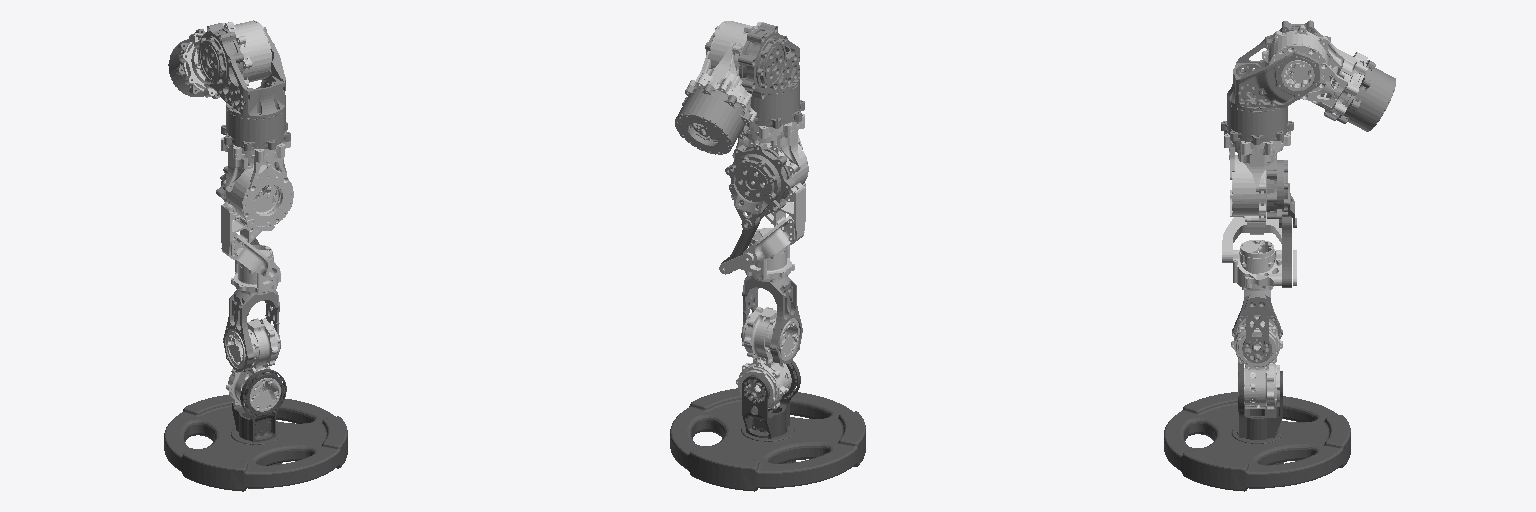
robot.urdf — raipal_stub-5_R:
<?xml version="1.0" encoding="utf-8"?>
<robot name="raipal_stub-5_R">
  <!-- [URDF-WRITER] Created with urdf-writer script (by CHH) on 2026-01-27 21:55:36.760258-->

  <!-- [URDF-WRITER] from module [_fixed-base] -->

  <!-- this link makes the robot fixed-base in RAISIM -->
  <link name="world"></link>

  <link name="base"></link>

  <joint name="base_fix" type="fixed">
    <origin xyz="0 0 0.8" rpy="0 0 0"/>
    <parent link="world" />
    <child link="base" />
    <axis xyz="0 0 0" />
  </joint>


  <!-- [URDF-WRITER] from module [raipal_R] -->

  <link name="R_base">
    <!-- CHH / 2025-09-01-20:14 -->
    <!-- link name: [R_base]-->
    <!-- frame: [R0_base]-->
    <inertial>
      <origin 
        xyz="-0.00013000 -0.06389000 -0.05559000"
        rpy="0 0 0" />
      <mass value="0.79658000" />
      <inertia
          ixx="0.00074742"
          ixy="1.892780e-6"
          ixz="-1.179560e-6"
          iyy="0.00098187"
          iyz="-0.00013334"
          izz="0.00082394" />
    </inertial>
    <visual>
      <origin
        xyz="0 0 0"
        rpy="0 0 0" />
      <geometry>
        <mesh filename="../meshes/R_base.STL" />
      </geometry>
      <material name="">
        <color rgba=".6 .6 .6 1" />
      </material>
    </visual>
    <!--<collision>
      <origin
        xyz="0 0 0"
        rpy="0 0 0" />
      <geometry>
        <mesh filename="../meshes/R_base.STL" />
      </geometry>
    </collision>-->
  </link>

  <joint name="R_fix" type="fixed">
    <origin xyz="0 0 0" rpy="0 0 0"/>
    <parent link="base" />
    <child link="R_base" />
    <axis xyz="0 0 0" />
  </joint>

  <link name="R_collar">
    <!-- CHH / 2025-09-01-20:14 -->
    <!-- link name: [R_collar]-->
    <!-- frame: [R1_flexion]-->
    <inertial>
      <origin 
        xyz="0.00471000 -1.000000e-5 0.10057000"
        rpy="0 0 0" />
      <mass value="1.72283000" />
      <inertia
          ixx="0.00466072"
          ixy="5.127800e-7"
          ixz="-0.00028338"
          iyy="0.00434837"
          iyz="8.010400e-7"
          izz="0.00167296" />
    </inertial>
    <visual>
      <origin
        xyz="0 0 0"
        rpy="0 0 0" />
      <geometry>
        <mesh filename="../meshes/R_collar.STL" />
      </geometry>
      <material name="">
        <color rgba="0.8 0.8 0.8 1" />
      </material>
    </visual>
    <!--<collision>
      <origin
        xyz="0 0 0"
        rpy="0 0 0" />
      <geometry>
        <mesh filename="../meshes/R_collar.STL" />
      </geometry>
    </collision>-->
  </link>

  <joint name="R1_flexion" type="revolute"> <!--[0]-->
    <origin
      xyz="0 -0.037198 -0.0709"
      rpy="1.0472 0 0" />
    <parent link="R_base" />
    <child link="R_collar" />
    <axis
      xyz="0 0 1" />
    <limit
      lower="-1.57"
      upper="3.14"
      effort="181"
      velocity="13.9" />
    <dynamics rotor_inertia = "0.0576402034658611" /> <!-- CHH / 2025-09-01-20:30-->
  </joint>

  <link name="R_shoulder">
    <!-- CHH / 2025-09-01-20:14 -->
    <!-- link name: [R_shoulder]-->
    <!-- frame: [R2_adduction]-->
    <inertial>
      <origin 
        xyz="-0.03309000 0.04277000 0.04408000"
        rpy="0 0 0" />
      <mass value="1.92988000" />
      <inertia
          ixx="0.00554587"
          ixy="0.00224326"
          ixz="-0.00046924"
          iyy="0.00422168"
          iyz="0.00058524"
          izz="0.00699049" />
    </inertial>
    <visual>
      <origin
        xyz="0 0 0"
        rpy="0 0 0" />
      <geometry>
        <mesh filename="../meshes/R_shoulder.STL" />
      </geometry>
      <material name="">
        <color rgba="0.6 0.6 0.6 1" />
      </material>
    </visual>
    <!--<collision>
      <origin
        xyz="0 0 0"
        rpy="0 0 0" />
      <geometry>
        <mesh filename="../meshes/R_shoulder.STL" />
      </geometry>
    </collision>-->
  </link>

  <joint name="R2_adduction" type="revolute"> <!--[1]-->
    <origin
      xyz="0.0373 0 0.1418"
      rpy="-1.5707963267949 1.0472 1.5707963267949" />
    <parent link="R_collar" />
    <child link="R_shoulder" />
    <axis
      xyz="0 0 -1" />
    <limit
      lower="-2.618"
      upper="0.488"
      effort="181"
      velocity="13.9" />
    <dynamics rotor_inertia = "0.0576402034658611" /> <!-- CHH / 2025-09-01-20:30-->
  </joint>

  <link name="R_humerus">
    <!-- CHH / 2025-09-01-20:14 -->
    <!-- link name: [R_humerus]-->
    <!-- frame: [R3_rotation]-->
    <inertial>
      <origin 
        xyz="-0.00369000 0.00351000 0.11625000"
        rpy="0 0 0" />
      <mass value="1.96262000" />
      <inertia
          ixx="0.00777442"
          ixy="-1.197057e-5"
          ixz="0.00065917"
          iyy="0.00822155"
          iyz="-0.00015972"
          izz="0.00201683" />
    </inertial>
    <visual>
      <origin
        xyz="0 0 0"
        rpy="0 0 0" />
      <geometry>
        <mesh filename="../meshes/R_humerus.STL" />
      </geometry>
      <material name="">
        <color rgba="0.8 0.8 0.8 1" />
      </material>
    </visual>
    <!--<collision>
      <origin
        xyz="0 0 0"
        rpy="0 0 0" />
      <geometry>
        <mesh filename="../meshes/R_humerus.STL" />
      </geometry>
    </collision>-->
  </link>

  <joint name="R3_rotation" type="revolute"> <!--[2]-->
    <origin
      xyz="-0.06 0.06025 0.0373"
      rpy="-1.5707963267949 1.5707963267949 0" />
    <parent link="R_shoulder" />
    <child link="R_humerus" />
    <axis
      xyz="0 0 -1" />
    <limit
      lower="-3.14"
      upper="3.14"
      effort="181"
      velocity="13.9" />
    <dynamics rotor_inertia = "0.0576402034658611" /> <!-- CHH / 2025-09-01-20:30-->
  </joint>

  <link name="R_elb_input">
    <!-- CHH / 2025-09-01-20:14 -->
    <!-- link name: [R_elb_input]-->
    <!-- frame: [R4a_elbow_power]-->
    <inertial>
      <origin 
        xyz="-2.000000e-5 0.00335000 0.05897000"
        rpy="0 0 0" />
      <mass value="0.83412000" />
      <inertia
          ixx="0.00071114"
          ixy="7.660000e-7"
          ixz="-9.255500e-7"
          iyy="0.00059983"
          iyz="-5.504818e-5"
          izz="0.00080767" />
    </inertial>
    <visual>
      <origin
        xyz="0 0 0"
        rpy="0 0 0" />
      <geometry>
        <mesh filename="../meshes/R_elb_input.STL" />
      </geometry>
      <material name="">
        <color rgba="0.6 0.6 0.6 1" />
      </material>
    </visual>
    <!--<collision>
      <origin
        xyz="0 0 0"
        rpy="0 0 0" />
      <geometry>
        <mesh filename="../meshes/R_elb_input.STL" />
      </geometry>
    </collision>-->
  </link>

  <joint name="R4a_elbow_power" type="revolute"> <!--[3]-->
    <origin
      xyz="0 0.0373 0.1418"
      rpy="1.5707963267949 0 0" />
    <parent link="R_humerus" />
    <child link="R_elb_input" />
    <axis
      xyz="0 0 1" />
    <limit
      lower="0"
      upper="1.556"
      effort="181"
      velocity="13.9" />
    <dynamics rotor_inertia = "0.0576402034658611" /> <!-- CHH / 2025-09-01-20:30-->
  </joint>

  <link name="R_elb_bar">
    <!-- CHH / 2025-09-01-20:14 -->
    <!-- link name: [R_elb_bar]-->
    <!-- frame: [R4b_elbow_bar_input]-->
    <inertial>
      <origin 
        xyz="0.04274000 0.00159000 -4.000000e-5"
        rpy="0 0 0" />
      <mass value="0.05314000" />
      <inertia
          ixx="2.335610e-6"
          ixy="0.0"
          ixz="0.0"
          iyy="6.149582e-5"
          iyz="-3.110000e-9"
          izz="6.199993e-5" />
    </inertial>
    <visual>
      <origin
        xyz="0 0 0"
        rpy="0 0 0" />
      <geometry>
        <mesh filename="../meshes/R_elb_bar.STL" />
      </geometry>
      <material name="">
        <color rgba="0.5 0.5 0.5 1" />
      </material>
    </visual>
    <!--<collision>
      <origin
        xyz="0 0 0"
        rpy="0 0 0" />
      <geometry>
        <mesh filename="../meshes/R_elb_bar.STL" />
      </geometry>
    </collision>-->
  </link>

  <joint name="R4b_elbow_bar_input" type="revolute"> <!--[4-unpowered]-->
    <origin
      xyz="0.00134978286029327 0.0599848154638326 0.0812119041053838"
      rpy="0 0 1.12941902735751" />
    <parent link="R_elb_input" />
    <child link="R_elb_bar" />
    <axis
      xyz="0 0 -1" />
    <limit
      lower="0"
      upper="1.802"
      effort="0"
      velocity="100" />
  </joint>

  <link name="R_ulna">
    <!-- CHH / 2025-09-01-20:14 -->
    <!-- link name: [R_ulna]-->
    <!-- frame: [R4_elbow]-->
    <inertial>
      <origin 
        xyz="0.00533000 0.01576000 -0.03891000"
        rpy="0 0 0" />
      <mass value="0.36947000" />
      <inertia
          ixx="0.00032310"
          ixy="-1.385696e-5"
          ixz="-4.244104e-5"
          iyy="0.00036383"
          iyz="-5.919040e-6"
          izz="0.00020708" />
    </inertial>
    <visual>
      <origin
        xyz="0 0 0"
        rpy="0 0 0" />
      <geometry>
        <mesh filename="../meshes/R_ulna.STL" />
      </geometry>
      <material name="">
        <color rgba="0.8 0.8 0.8 1" />
      </material>
    </visual>
    <!--<collision>
      <origin
        xyz="0 0 0"
        rpy="0 0 0" />
      <geometry>
        <mesh filename="../meshes/R_ulna.STL" />
      </geometry>
    </collision>-->
  </link>

  <joint name="R4_elbow" type="revolute"> <!--[5-unpowered]-->
    <origin
      xyz="0 -0.0439119041053754 0.25475"
      rpy="1.5707963267949 0 0" />
    <parent link="R_humerus" />
    <child link="R_ulna" />
    <axis
      xyz="0 0 -1" />
    <limit
      lower="0"
      upper="2.2689"
      effort="0"
      velocity="100" />
  </joint>

  <link name="R_radius">
    <!-- CHH / 2025-09-01-20:14 -->
    <inertial>
      <origin 
        xyz="0.00151000 0.0 0.10290000"
        rpy="0 0 0" />
      <mass value="0.42307000" />
      <inertia
          ixx="0.00112662"
          ixy="-1.975000e-8"
          ixz="-5.589578e-5"
          iyy="0.00120471"
          iyz="1.556000e-8"
          izz="0.00024138" />
    </inertial>
    <visual>
      <origin
        xyz="0 0 0"
        rpy="0 0 0" />
      <geometry>
        <mesh filename="../meshes/R_radius.STL" />
      </geometry>
      <material name="">
        <color rgba="0.6 0.6 0.6 1" />
      </material>
    </visual>
    <!--</collision>
      <origin
        xyz="0 0 0"
        rpy="0 0 0" />
      <geometry>
        <mesh filename="../meshes/R_radius.STL" />
      </geometry>
    </collision>-->
  </link>

  <joint name="R5_roll" type="revolute">  <!--[6]-->
    <origin
      xyz="0 -0.0135819531869474 -0.0439119041053754"
      rpy="-1.5707963267949 0 0" />
    <parent link="R_ulna" />
    <child link="R_radius" />
    <axis
      xyz="0 0 -1" />
    <limit
      lower="-1.57"
      upper="1.57"
      effort="12.61"
      velocity="53.8" />
    <dynamics rotor_inertia = "0.000540543349430043" /> <!-- CHH / 2025-09-01-20:30-->
  </joint>

  <link name="R_carpal">
    <!-- CHH / 2025-09-01-20:14 -->
    <inertial>
      <origin 
        xyz="-0.00117000 0.03421000 0.02964000"
        rpy="0 0 0" />
      <mass value="0.67981000" />
      <inertia
          ixx="0.00128813"
          ixy="3.134577e-5"
          ixz="3.268690e-6"
          iyy="0.00040998"
          iyz="-9.323146e-5"
          izz="0.00126953" />
    </inertial>
    <visual>
      <origin
        xyz="0 0 0"
        rpy="0 0 0" />
      <geometry>
        <mesh filename="../meshes/R_carpal.STL" />
      </geometry>
      <material name="">
        <color rgba="0.8 0.8 0.8 1" />
      </material>
    </visual>
    <!--</collision>
      <origin
        xyz="0 0 0"
        rpy="0 0 0" />
      <geometry>
        <mesh filename="../meshes/R_carpal.STL" />
      </geometry>
    </collision>-->
  </link>

  <joint name="R6_pitch" type="revolute">  <!--[7]-->
    <origin
      xyz="-0.0337 0 0.153581953186935"
      rpy="1.5707963267949 0 1.5707963267949" />
    <parent link="R_radius" />
    <child link="R_carpal" />
    <axis
      xyz="0 0 1" />
    <limit
      lower="-2.0944"
      upper="2.0944"
      effort="12.61"
      velocity="53.8" />
    <dynamics rotor_inertia = "0.000540543349430043" /> <!-- CHH / 2025-09-01-20:30-->
  </joint>

  <link name="R_ee">
    <!-- CHH / 2025-09-01-20:14 -->
    <inertial>
      <origin 
        xyz="0.0 0.0 0.04531000"
        rpy="0 0 0" />
      <mass value="0.13143000" />
      <inertia
          ixx="3.339173e-5"
          ixy="0.0"
          ixz="0.0"
          iyy="3.339173e-5"
          iyz="0.0"
          izz="4.133016e-5" />
    </inertial>
    <visual>
      <origin
        xyz="0 0 0"
        rpy="0 0 0" />
      <geometry>
        <mesh filename="../meshes/R_ee.STL" />
      </geometry>
      <material name="">
        <color rgba="0.6 0.6 0.6 1" />
      </material>
    </visual>
    <!--</collision>
      <origin
        xyz="0 0 0"
        rpy="0 0 0" />
      <geometry>
        <mesh filename="../meshes/R_ee.STL" />
      </geometry>
    </collision>-->
  </link>

  <joint name="R7_yaw" type="revolute">  <!--[8]-->
    <origin
      xyz="0.0264 0.073 0.0337"
      rpy="0 -1.5707963267949 0" />
    <parent link="R_carpal" />
    <child link="R_ee" />
    <axis
      xyz="0 0 -1" />
    <limit
      lower="-1.57079"
      upper="1.57079"
      effort="12.61"
      velocity="53.8" />
    <dynamics rotor_inertia = "0.000540543349430043" /> <!-- CHH / 2025-09-01-20:30-->
  </joint>

  <!-- Imaginary links for loop closure -->
  <link name="R_loop_barside"></link>

  <joint name="R4cA_elbow_loop_bar" type="fixed">
    <origin
      xyz="0.0854747786370337 0 0"
      rpy="0 0 0" />
    <parent link="R_elb_bar" />
    <child link="R_loop_barside" />
    <axis
      xyz="0 0 1" />
    <!-- relaxed limits since others are constrained -->
    <limit
      lower="-3.14"
      upper="3.14"
      effort="0"
      velocity="100" />
  </joint>

  <link name="R_loop_ulnaside"></link>

  <joint name="R4cB_elbow_loop_ulna_fixed" type="fixed">
    <origin
      xyz="0.0378633410992504 0.0243180468130526 0"
      rpy="0 0 1.12941902735751" />
    <parent link="R_ulna" />
    <child link="R_loop_ulnaside" />
    <axis
      xyz="0 0 0" />
  </joint>

  
  <!-- [URDF-WRITER] from module [stub-5_R] -->
  <link name="R_stub">
    <!-- CHH / 2025-10-17-21:18 -->
    <!-- link name: [stub-5]-->
    <!-- frame: [RE_end-effector]-->
    <inertial>
      <origin 
        xyz="5.000000e-5 -0.08895000 0.02623000"
        rpy="0 0 0" />
      <mass value="5.52298000" />
      <inertia
          ixx="0.02835114"
          ixy="7.398080e-6"
          ixz="2.272770e-6"
          iyy="0.05347586"
          iyz="0.00010221"
          izz="0.02830810" />
    </inertial>
    <visual>
      <origin
        xyz="0 0 0"
        rpy="0 0 0" />
      <geometry>
        <mesh filename="../meshes/stub_5.STL" />
      </geometry>
      <material name="">
        <color rgba="0.4 0.4 0.4 1" />
      </material>
    </visual>
  </link>

  <joint name="RE_end_effector_fixed" type="fixed">
    <origin
      xyz="0 0 0"
      rpy="0 0 3.141592" />
    <parent link="R_ee" />
    <child link="R_stub" />
    <axis
      xyz="0 0 0" />
  </joint>


  <link name="R_stub-tip"></link>

  <joint name="RE_tip_fixed" type="fixed">
    <origin
      xyz="0 -0.157 0.0264"
      rpy="-1.5708 0 3.141592" />
    <parent link="R_stub" />
    <child link="R_stub-tip" />
    <axis
      xyz="0 0 0" />
  </joint>
  <!-- [URDF-WRITER] merged constraints -->
  <constraints nominal_config="0 0 0 0 0 0 0 0 0 0 0 0 0 0 0 0 0 0 0 0 0">
    <pin body1="R_loop_barside" body2="R_loop_ulnaside" anchor="0.0 0.0 0.0"/>
  </constraints>

</robot>

--- Facts derived from the render (not from the file) ---
3 views of the same robot in one strip: view 1: azimuth 30°, elevation 25°; view 2: azimuth 150°, elevation 25°; view 3: azimuth 270°, elevation 25° (orthographic).
Model raipal_stub-5_R with 16 links and 15 joints (9 revolute, 6 fixed), rooted at world, posed every joint at zero.
Links seen in each view (by area): view 1: R_stub, R_shoulder, R_humerus, R_carpal, R_collar, R_radius, R_ulna, R_base; view 2: R_stub, R_shoulder, R_humerus, R_elb_input, R_base, R_carpal, R_collar, R_radius, R_ulna; view 3: R_stub, R_shoulder, R_collar, R_humerus, R_carpal, R_ulna, R_base, R_radius, R_elb_input, R_elb_bar.
Link boxes in pixels (box(x1,y1,x2,y2)): R_stub: box(164, 369, 347, 491); R_shoulder: box(197, 23, 290, 150); R_humerus: box(221, 137, 293, 279); R_carpal: box(226, 318, 280, 411); R_collar: box(178, 20, 271, 97); R_radius: box(223, 289, 280, 371); R_ulna: box(231, 245, 280, 295); R_base: box(168, 29, 219, 98); R_stub: box(670, 360, 865, 491); R_shoulder: box(705, 23, 804, 128); R_humerus: box(732, 114, 808, 264); R_elb_input: box(725, 143, 795, 230); R_base: box(675, 84, 751, 154); R_carpal: box(736, 307, 799, 410); R_collar: box(689, 21, 766, 122); R_radius: box(741, 276, 802, 363); R_ulna: box(719, 228, 794, 282); R_stub: box(1164, 362, 1350, 491); R_shoulder: box(1221, 20, 1330, 144); R_collar: box(1262, 25, 1367, 120); R_humerus: box(1222, 131, 1290, 262); R_carpal: box(1231, 315, 1282, 410); R_ulna: box(1233, 240, 1296, 290); R_base: box(1336, 60, 1395, 131); R_radius: box(1232, 290, 1282, 363); R_elb_input: box(1267, 159, 1296, 227); R_elb_bar: box(1282, 217, 1291, 287).
Bounding box of the posed robot: 0.2759 × 0.3429 × 0.7385 m (x, y, z).
Meshes: 11 distinct files referenced, 11 mesh visuals loaded (11 binary STL).
